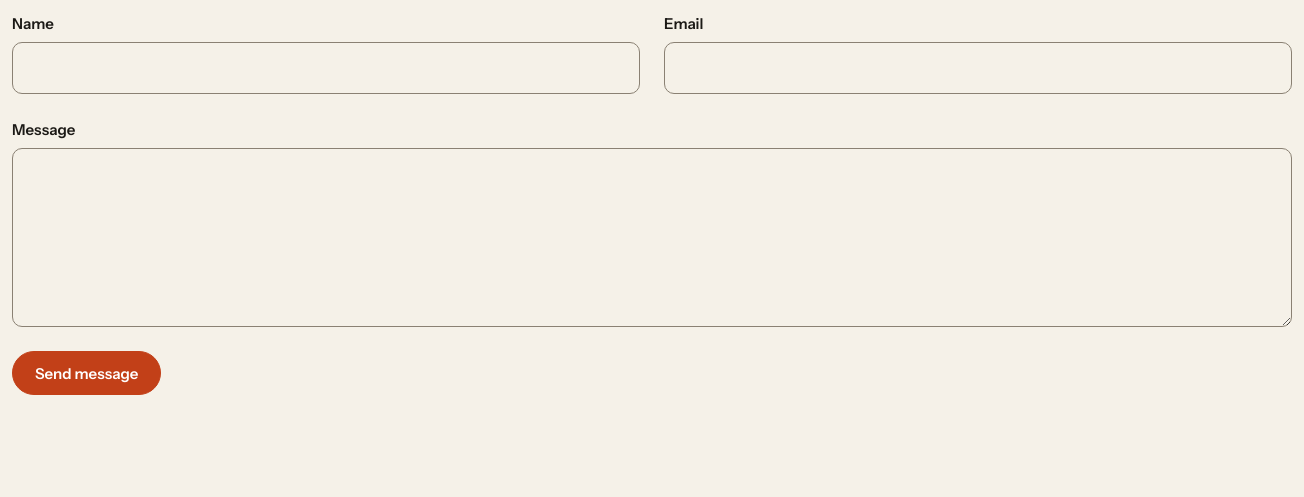
Scenario: ContactForm › handles a network failure
Type "Ada Lovelace" into the field labelled "Name" at (326, 68), box left=12, top=42, right=640, bottom=94
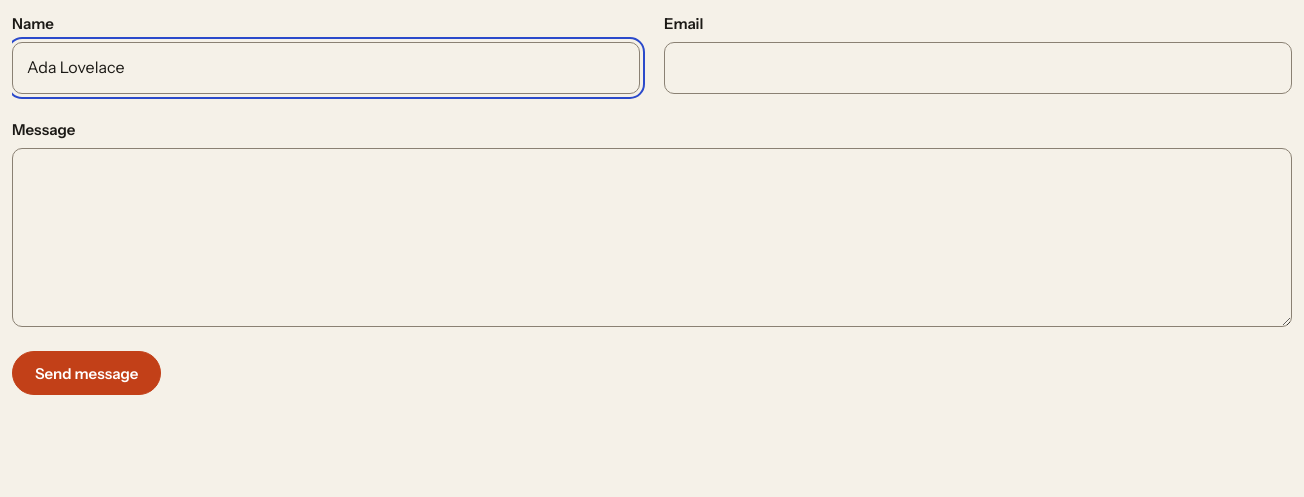
Type "ada@example.com" into the field labelled "Email" at (978, 68), box left=664, top=42, right=1292, bottom=94
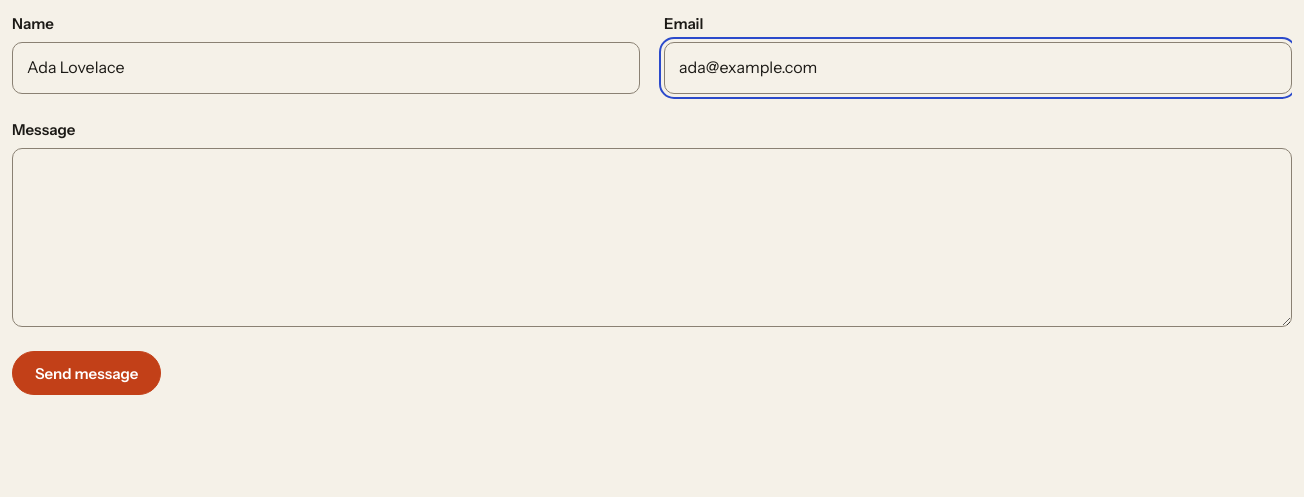
Type "We have a graduate role on our platform team." into the text box labelled "Message" at (652, 237), box left=12, top=148, right=1292, bottom=327
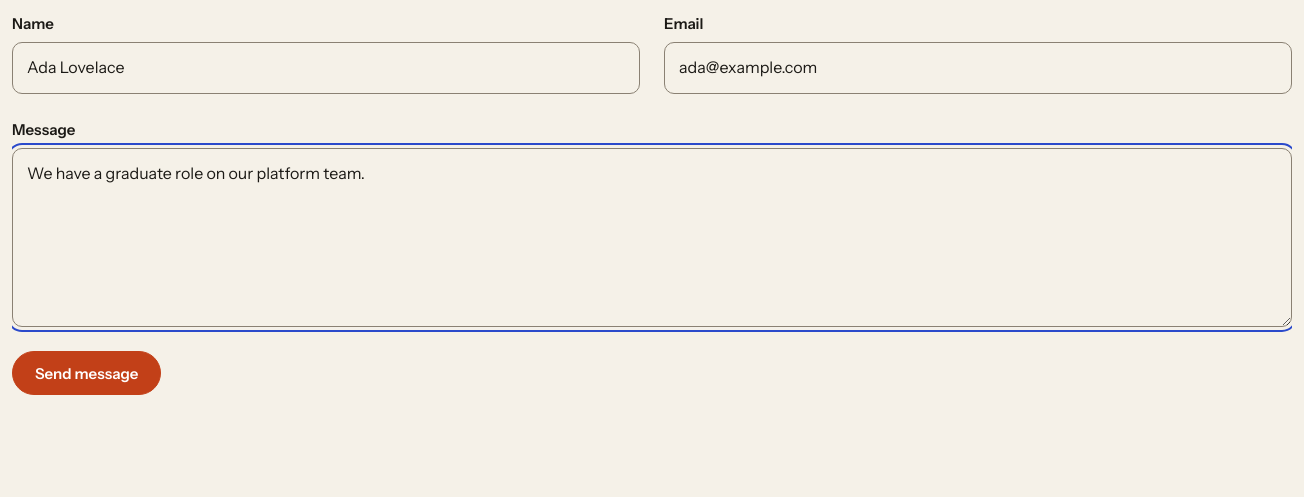
Click the button "Send message" at (87, 373), box left=12, top=351, right=161, bottom=395
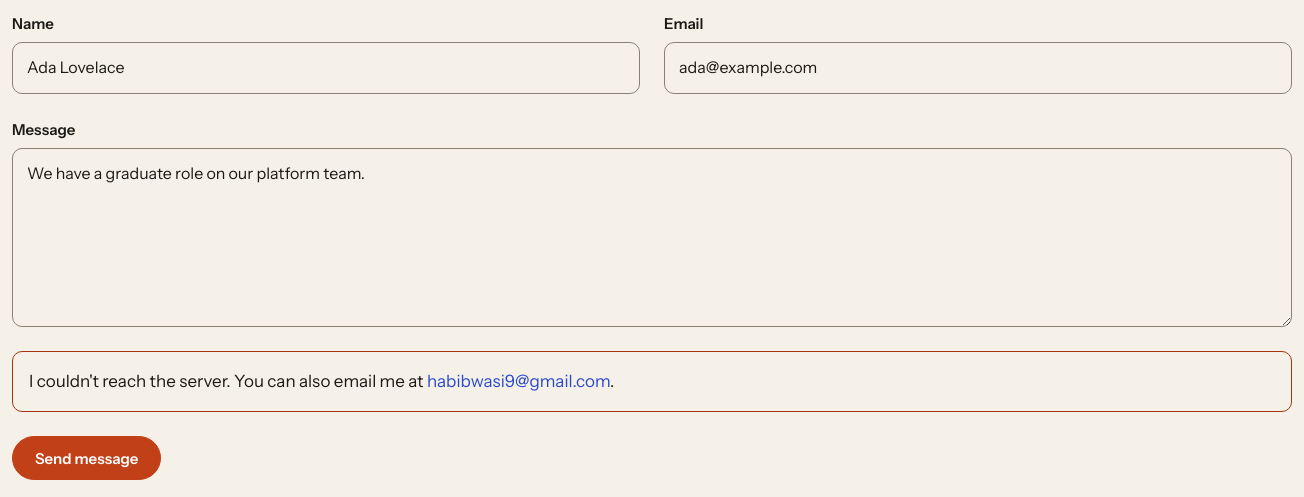
Now the message shows "couldn't reach the server", box left=29, top=371, right=231, bottom=391
